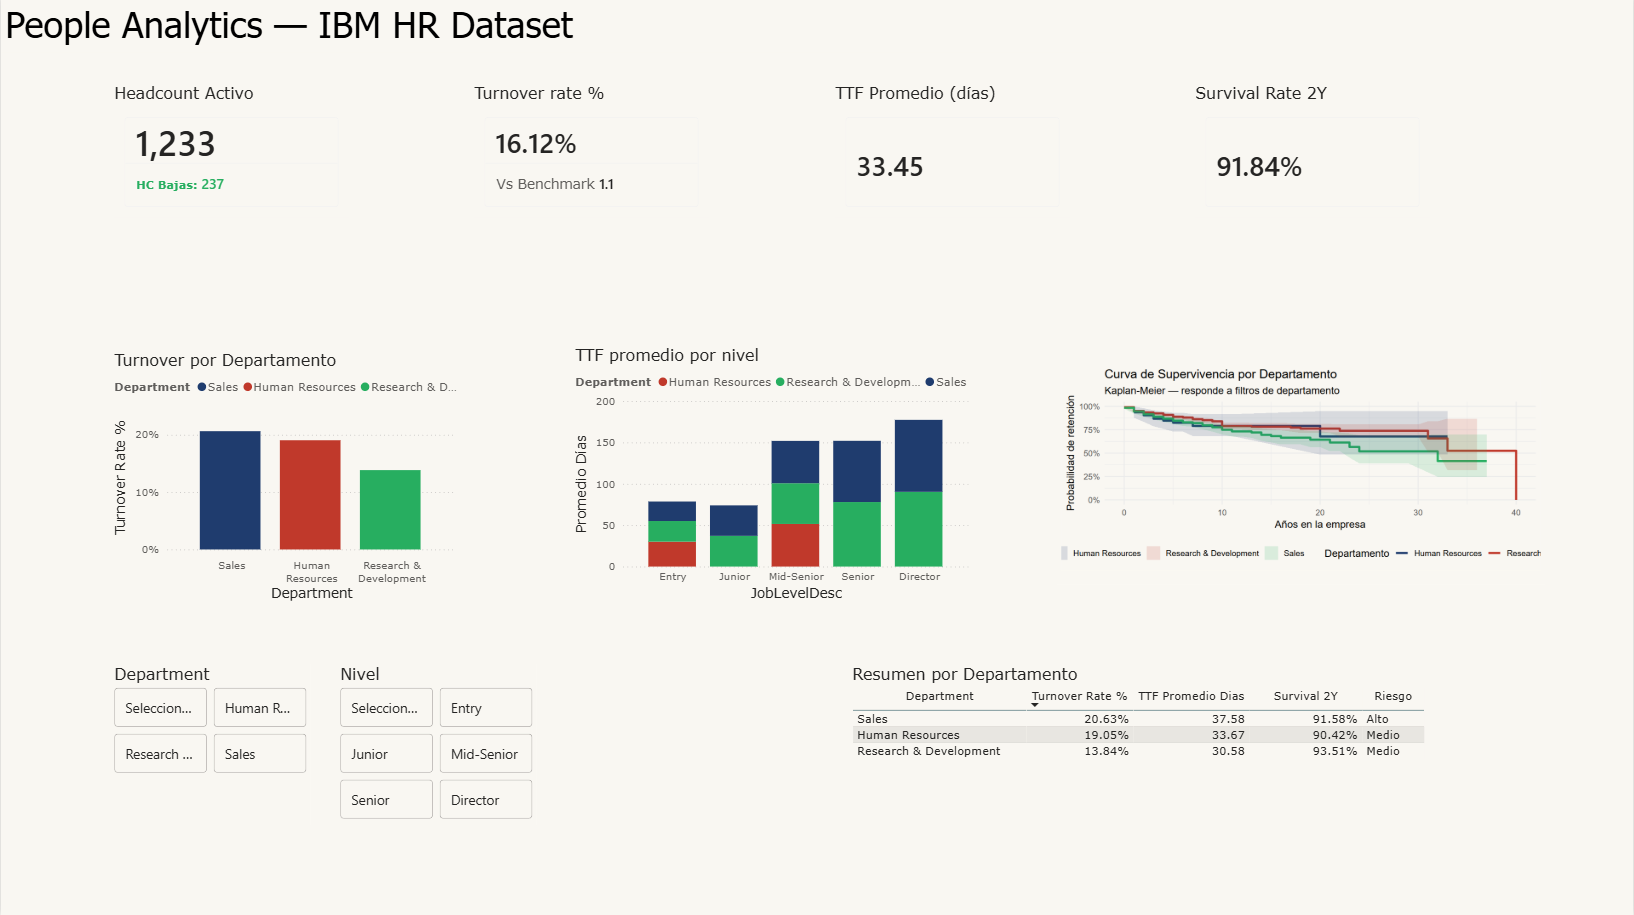

The page's visual inventory and layout, read from the dashboard file:
{"tool":"powerbi","page":{"name":"MPV","canvas":[1920,1080],"ordinal":0},"visuals":[{"type":"columnChart","title":"TTF promedio por nivel","fields":{"Category":["DimJobLevel.JobLevelDesc"],"Series":["DimDepartment.Department"],"Y":["Avg(FactTTF.avg_ttf)"]},"box":[671,409,473,306],"z":0},{"type":"columnChart","title":"Turnover por Departamento","fields":{"Category":["DimDepartment.Department"],"Series":["DimDepartment.Department"],"Y":["_Medidas.Turnover Rate %"]},"box":[128,415,412,300],"z":1000},{"type":"tableEx","title":"Resumen por Departamento","fields":{"Values":["DimDepartment.Department","_Medidas.Turnover Rate %","_Medidas.TTF Promedio Dias","_Medidas.Survival Rate 2Y","FactTurnover.Riesgo"]},"box":[997,785,806,254],"z":2000},{"type":"cardVisual","title":"Headcount Activo","fields":{"Data":["_Medidas.HeadCount Activo"]},"box":[128.5,101.8,286,163],"z":3000,"group":"g1"},{"type":"group","id":"g1","title":"Grupo 1","box":[128.5,101.8,1556.6,162.4],"z":3000},{"type":"group","id":"g2","title":"Grupo 2","box":[128,785,502,189],"z":4000},{"type":"advancedSlicerVisual","fields":{"Values":["DimDepartment.Department"]},"box":[128,785,236,189],"z":4000,"group":"g2"},{"type":"cardVisual","title":"Survival Rate 2Y","fields":{"Data":["_Medidas.Survival Rate 2Y"]},"box":[1400.5,101.8,286,163],"z":5000,"group":"g1"},{"type":"scriptVisual","fields":{"Values":["FactSurvival.CI_Lower","FactSurvival.CI_Upper","FactSurvival.Survival","FactSurvival.Time_Years","DimDepartment.Department"]},"box":[1242,415,574,276],"z":5000},{"type":"textbox","box":[0,0,1310,65],"z":6000},{"type":"advancedSlicerVisual","title":"Nivel","fields":{"Values":["DimJobLevel.JobLevelDesc"]},"box":[394,785,236,189],"z":7000,"group":"g2"},{"type":"cardVisual","title":"Turnover rate %","fields":{"Data":["_Medidas.Turnover Rate %"]},"box":[552.5,101.8,286,163],"z":8000,"group":"g1"},{"type":"cardVisual","title":"TTF Promedio (días)","fields":{"Data":["_Medidas.TT Promedio Dias"]},"box":[976.5,101.8,286,163],"z":9000,"group":"g1"}]}

Visuals, with their boxes in screenshot pixels (x1, y1, x2, y2), scaled from the page's 1920x1080 canvas onto the 1634x915 screenshot:
"TTF promedio por nivel" columnChart: pyautogui.locateOnScreen(571, 347, 974, 606)
"Turnover por Departamento" columnChart: pyautogui.locateOnScreen(109, 352, 460, 606)
"Resumen por Departamento" tableEx: pyautogui.locateOnScreen(848, 665, 1534, 880)
"Headcount Activo" cardVisual: pyautogui.locateOnScreen(109, 86, 353, 224)
"Grupo 1" group: pyautogui.locateOnScreen(109, 86, 1434, 224)
"Grupo 2" group: pyautogui.locateOnScreen(109, 665, 536, 825)
advancedSlicerVisual - DimDepartment.Department: pyautogui.locateOnScreen(109, 665, 310, 825)
"Survival Rate 2Y" cardVisual: pyautogui.locateOnScreen(1192, 86, 1435, 224)
scriptVisual - FactSurvival.CI_Lower x FactSurvival.CI_Upper: pyautogui.locateOnScreen(1057, 352, 1545, 585)
textbox: pyautogui.locateOnScreen(0, 0, 1115, 55)
"Nivel" advancedSlicerVisual: pyautogui.locateOnScreen(335, 665, 536, 825)
"Turnover rate %" cardVisual: pyautogui.locateOnScreen(470, 86, 714, 224)
"TTF Promedio (días)" cardVisual: pyautogui.locateOnScreen(831, 86, 1074, 224)
